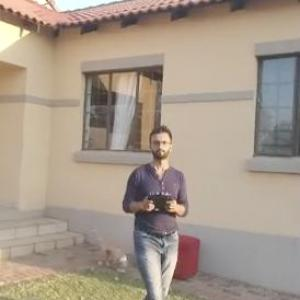follow: (117, 120, 194, 299)
null: (88, 221, 130, 274)
